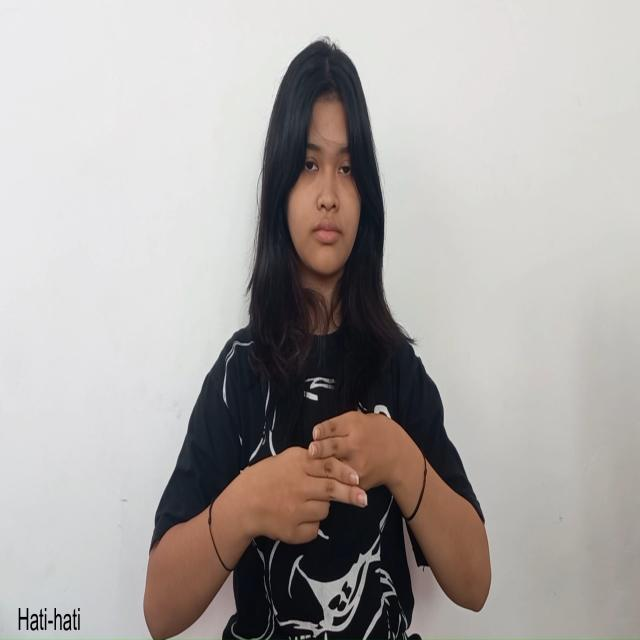Hati-hati -BISINDO-: (239, 410, 405, 546)
